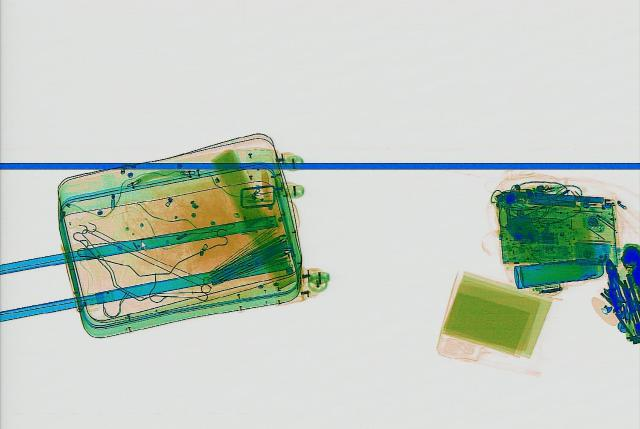Pliers: (598, 257, 636, 313)
